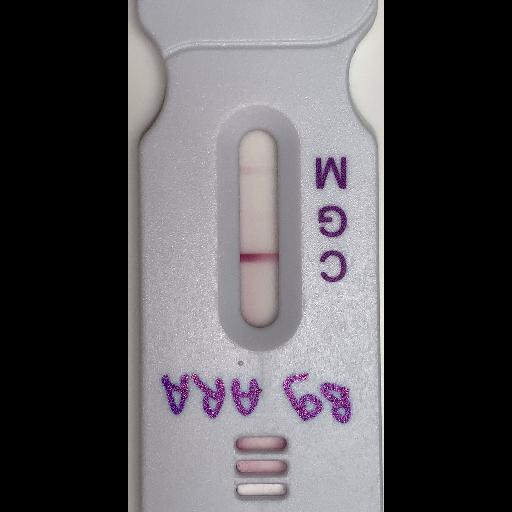Pos: (127, 0, 383, 511)
